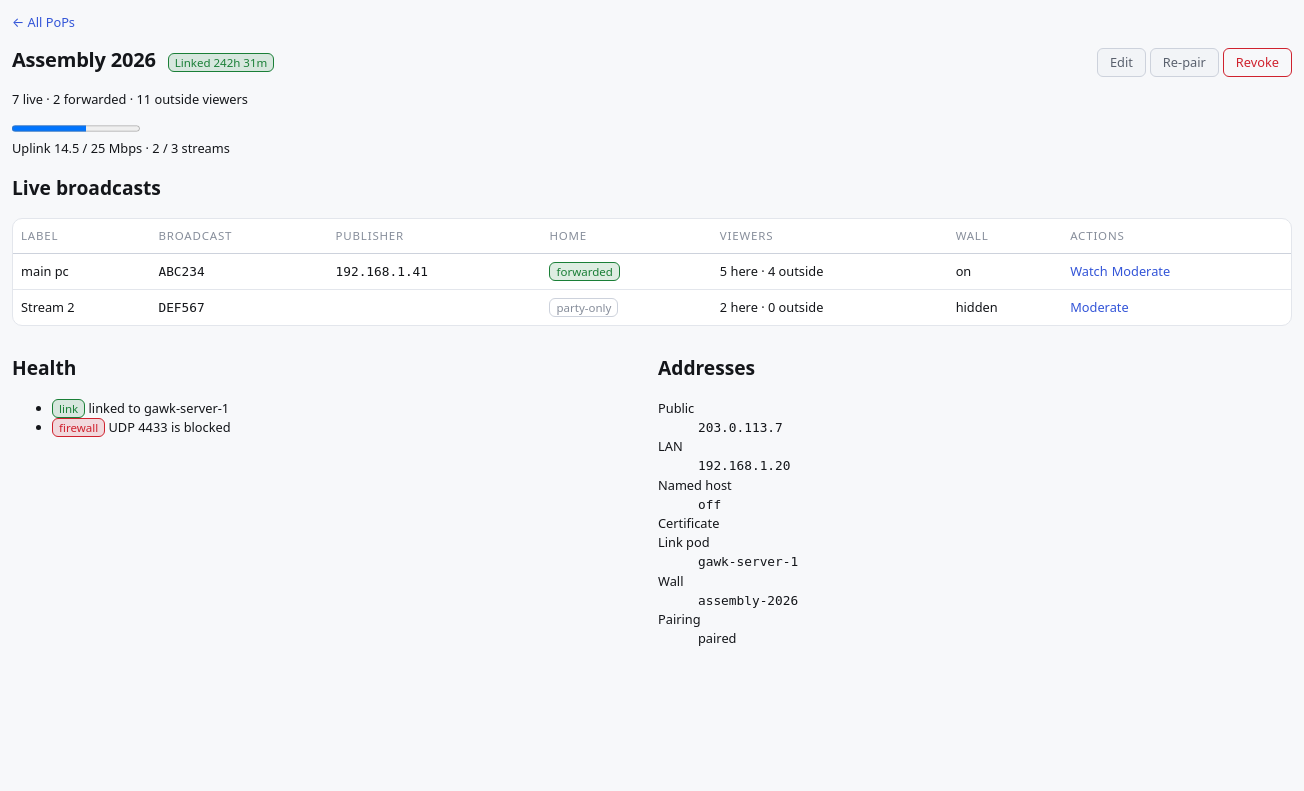
Test: the PoPs view: other states, errors and cancels › patches every edited field, shows a failed save, and cancels
Step 1. Click the button "Edit" → (1121, 62), box [1097,48,1146,77]
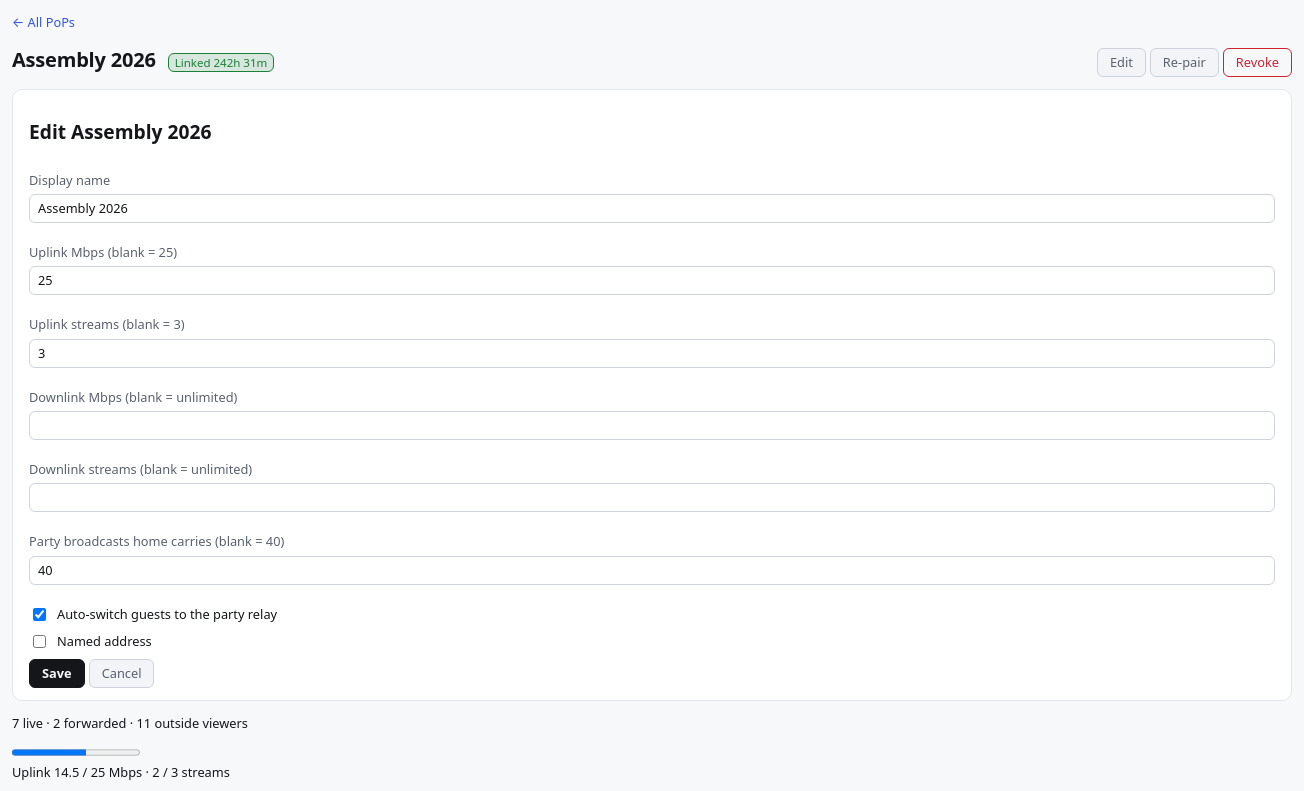
Step 2. Replace the text in the field labelled "Display name" with "Assembly 26" → (652, 208), box [29,194,1275,223]
Step 3. Type "50" into the number field labelled "Downlink Mbps (blank = unlimited)" → (652, 426), box [29,411,1275,440]
Step 4. Clear the number field labelled "Party broadcasts home carries (blank = 40)" → (652, 570), box [29,556,1275,585]
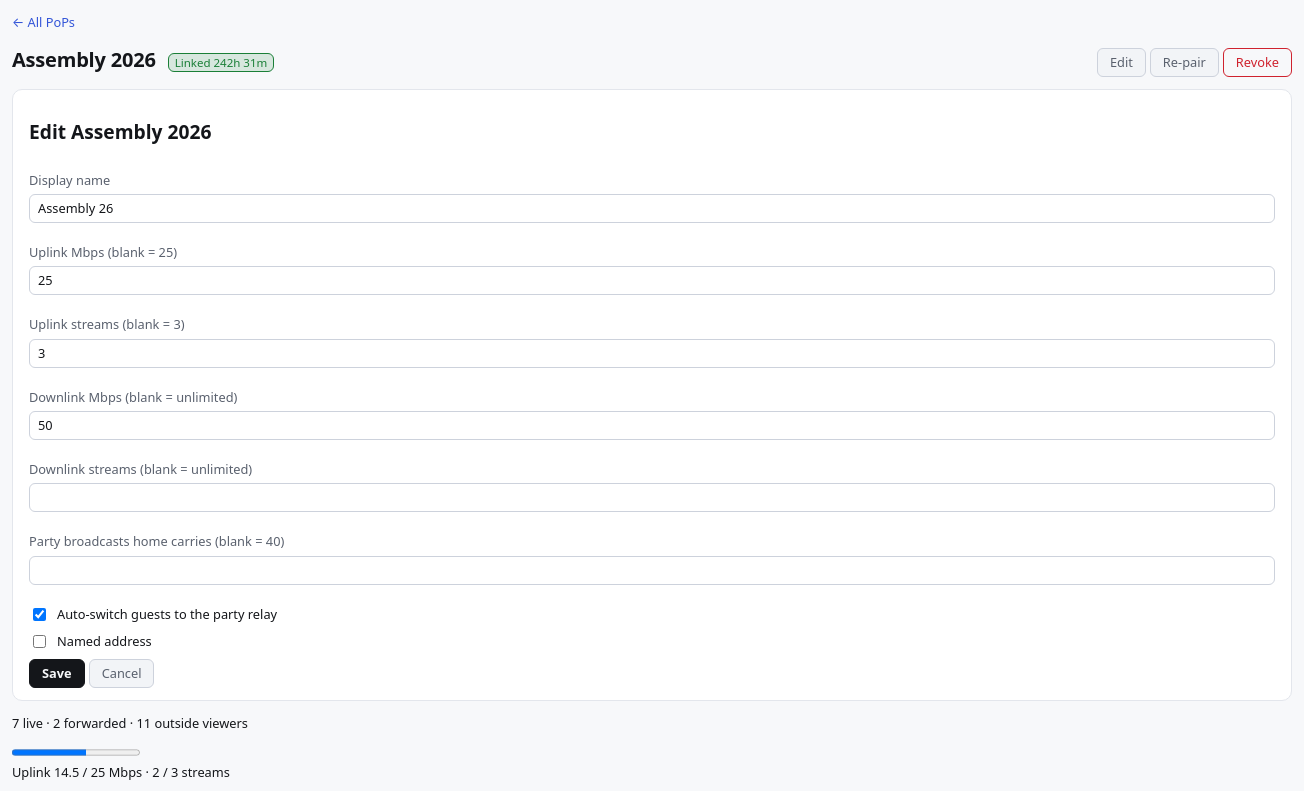
Step 5. Click the checkbox labelled "Auto-switch guests to the party relay" → (40, 614), box [33,608,46,621]
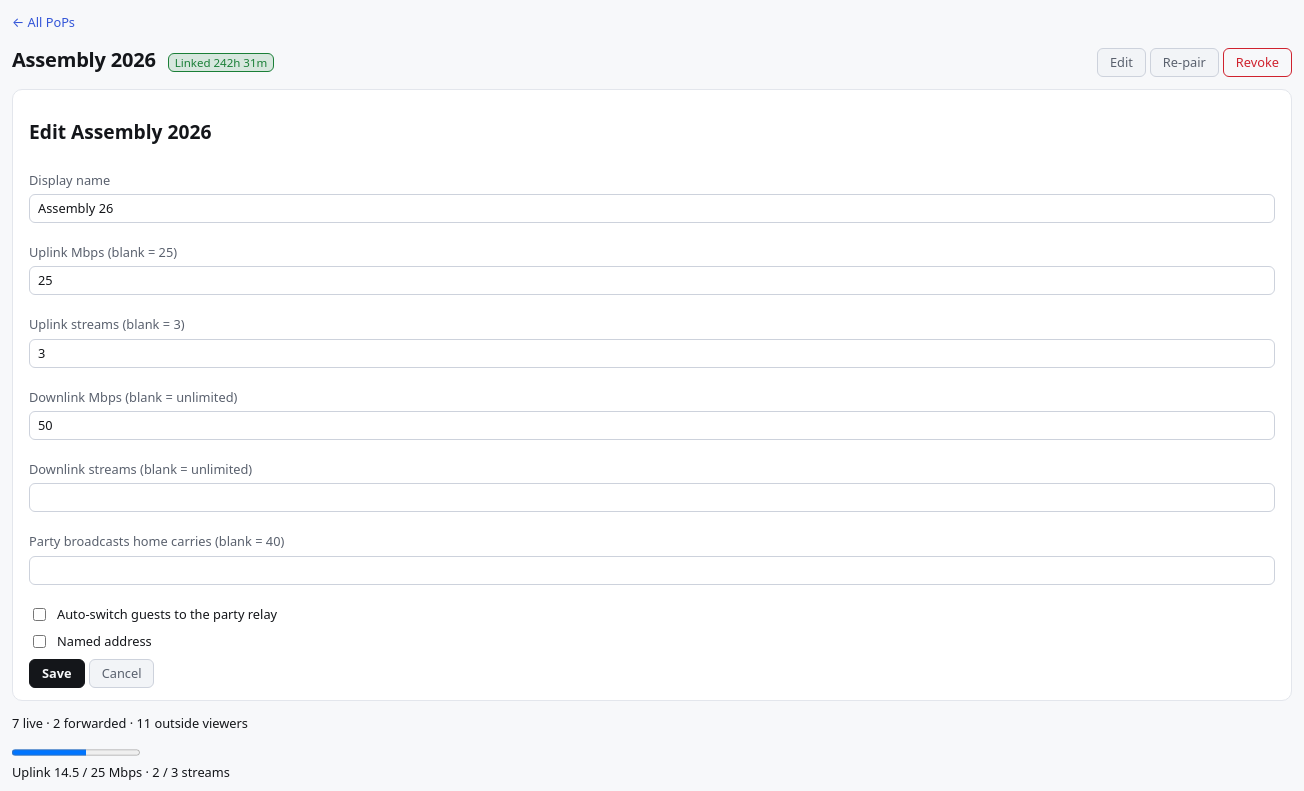
Step 6. Click the checkbox labelled "Named address" → (40, 642), box [33,635,46,648]
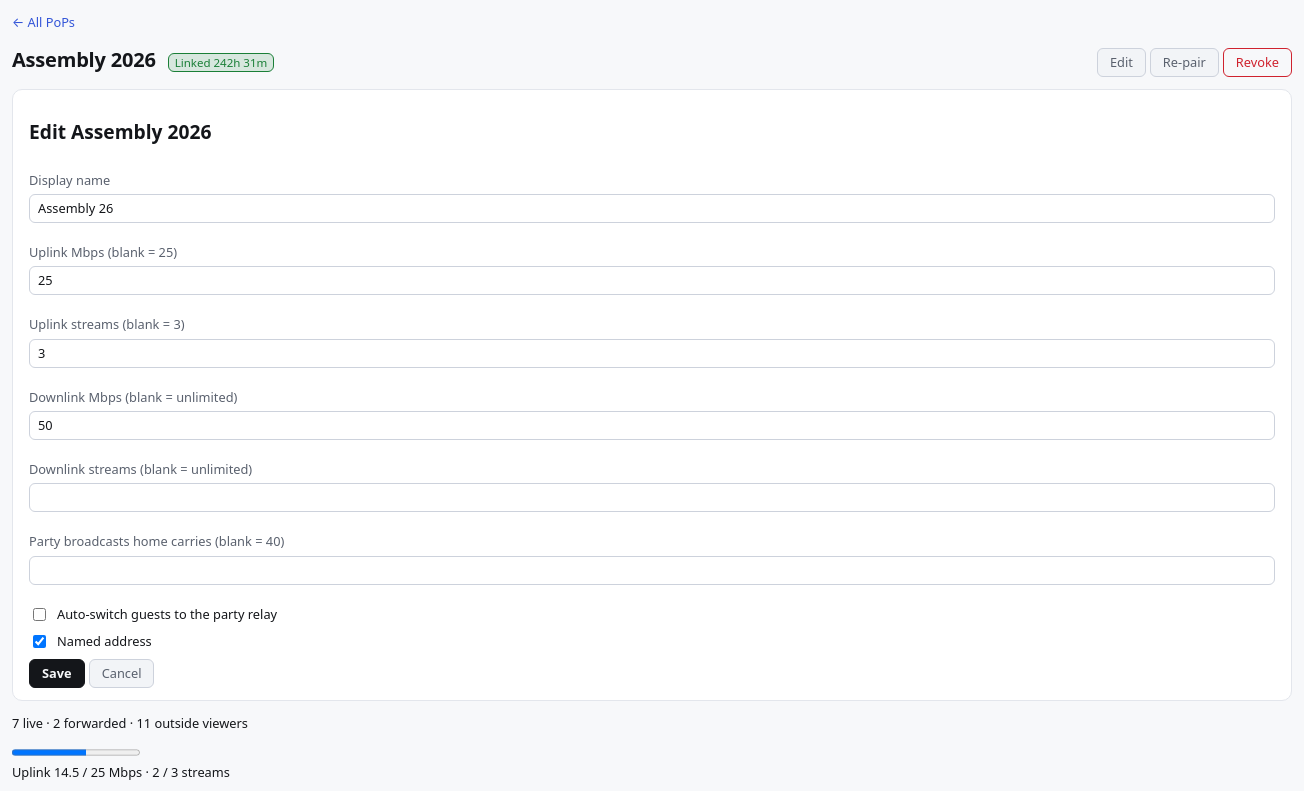
Step 7. Click the button "Save" → (57, 674), box [29,659,85,688]
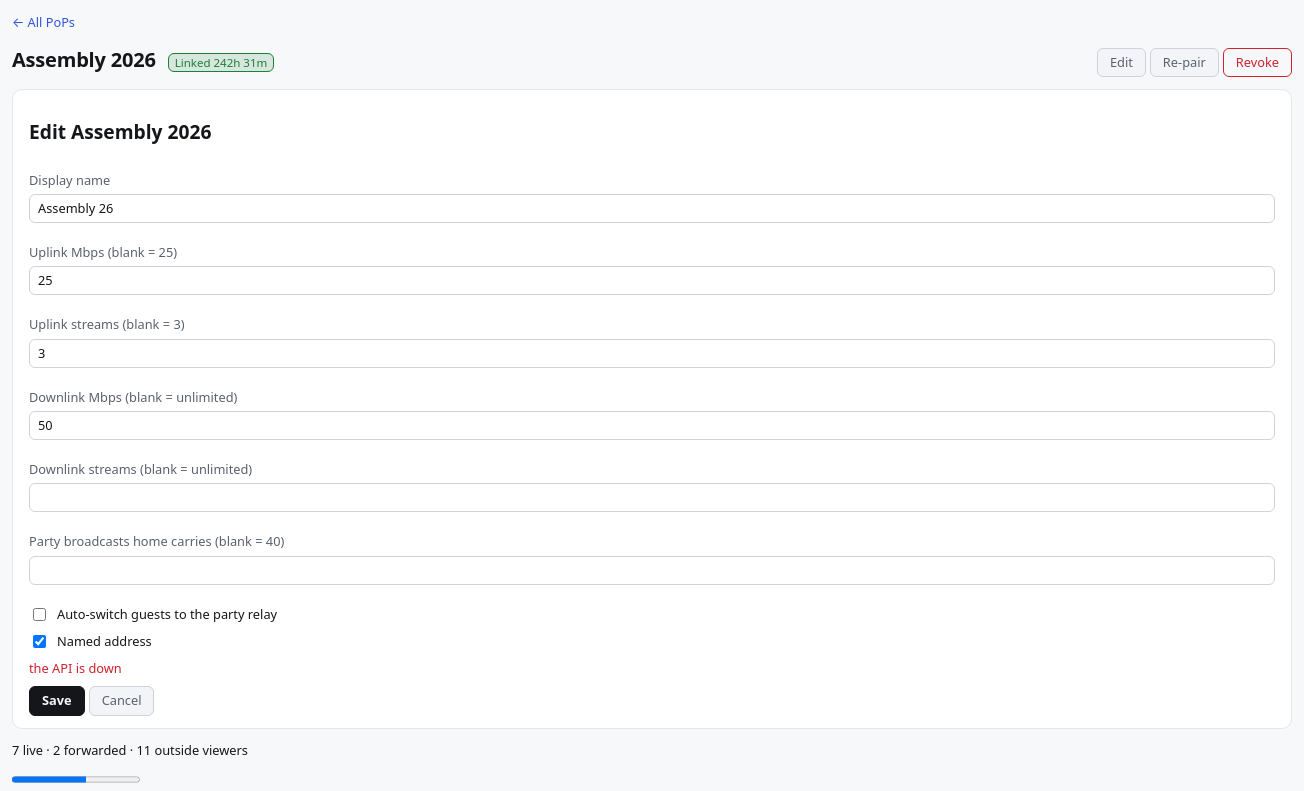
Check: the text "the API is down" is shown, box [29,659,122,677]
Step 8. Click the button "Cancel" → (122, 701), box [89,686,154,716]
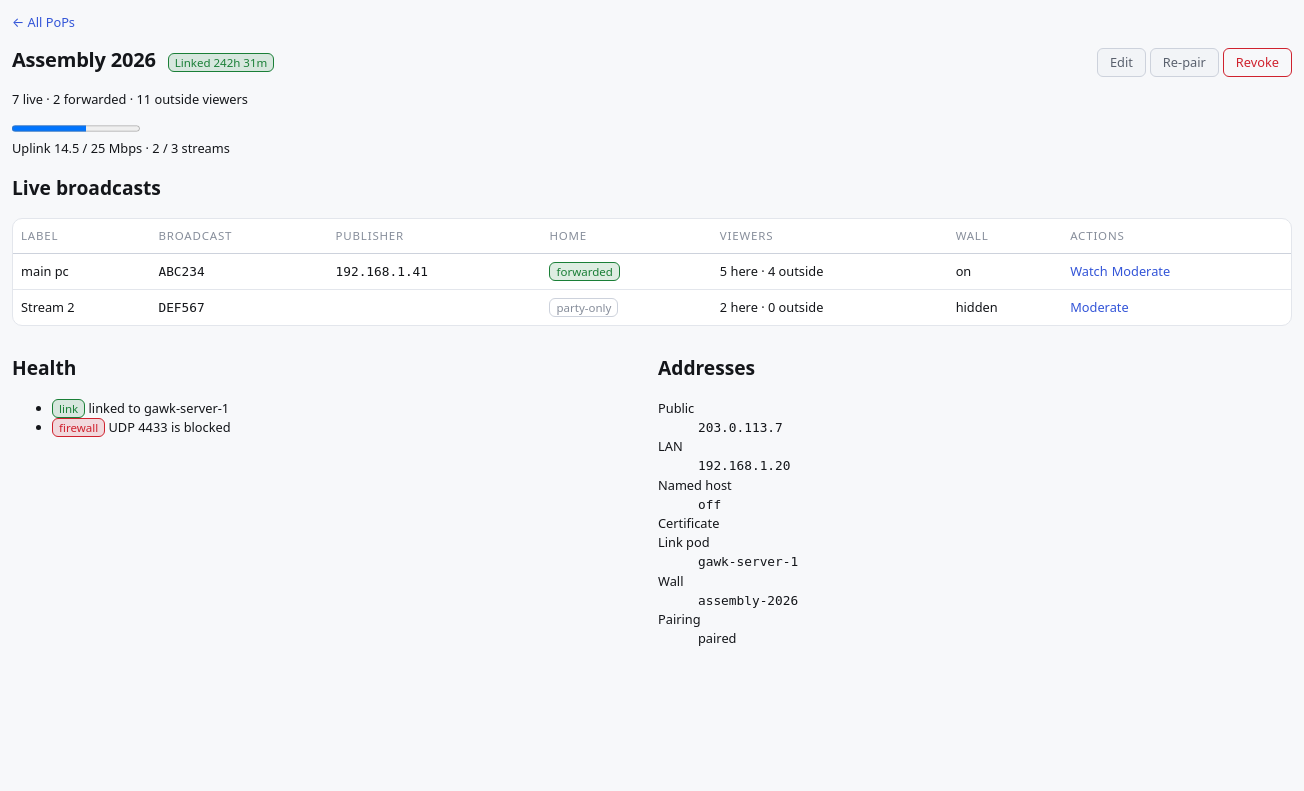
Check: the button "Save" is gone
